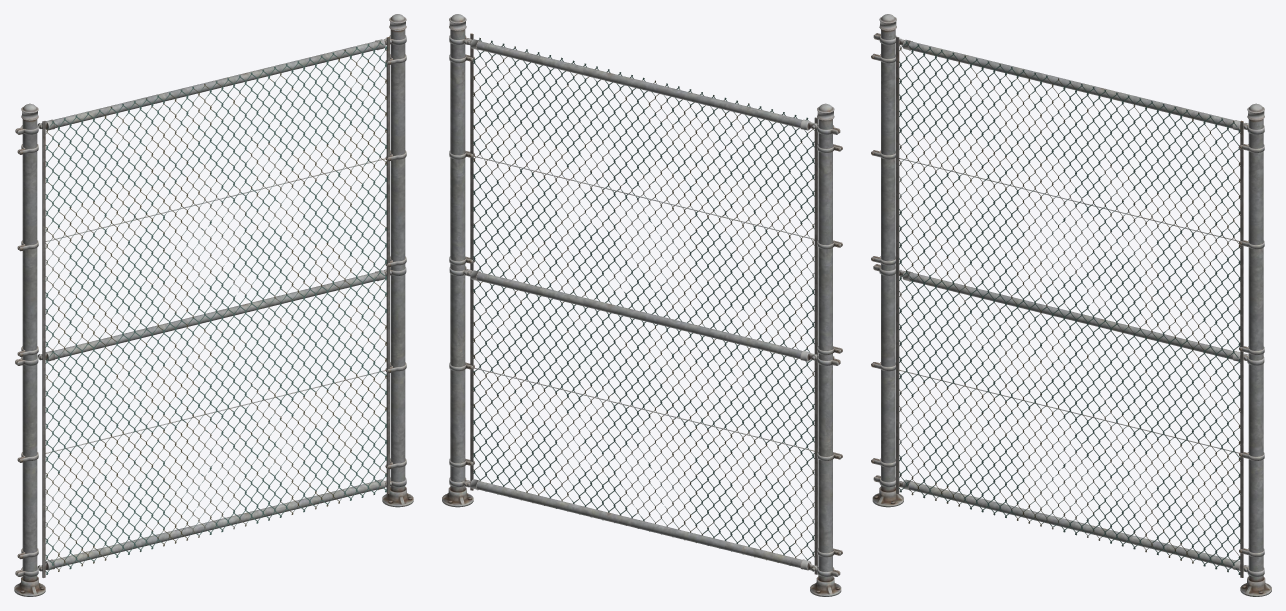
The model's file is fence.glb.
3 views of the same model, side by side, from view 1: azimuth 30°, elevation 25°; view 2: azimuth 150°, elevation 25°; view 3: azimuth 330°, elevation 25° (orthographic).
Visible parts, largest first — view 1: modular_chainlink_fence_double, modular_chainlink_fence_end_01.001, modular_chainlink_fence_end_01; view 2: modular_chainlink_fence_double, modular_chainlink_fence_end_01, modular_chainlink_fence_end_01.001; view 3: modular_chainlink_fence_double, modular_chainlink_fence_end_01, modular_chainlink_fence_end_01.001.
Part boxes in pixels (<box>): modular_chainlink_fence_double: <box>37,36,391,577</box>; modular_chainlink_fence_end_01.001: <box>14,103,45,596</box>; modular_chainlink_fence_end_01: <box>382,14,413,507</box>; modular_chainlink_fence_double: <box>463,33,817,574</box>; modular_chainlink_fence_end_01: <box>442,14,474,507</box>; modular_chainlink_fence_end_01.001: <box>810,103,842,596</box>; modular_chainlink_fence_double: <box>896,37,1248,577</box>; modular_chainlink_fence_end_01: <box>1239,103,1271,596</box>; modular_chainlink_fence_end_01.001: <box>871,14,903,507</box>.
Size of the model in its own units: 2.15 by 2.52 by 0.1483.
Materials: 2 (2 with a texture image).
